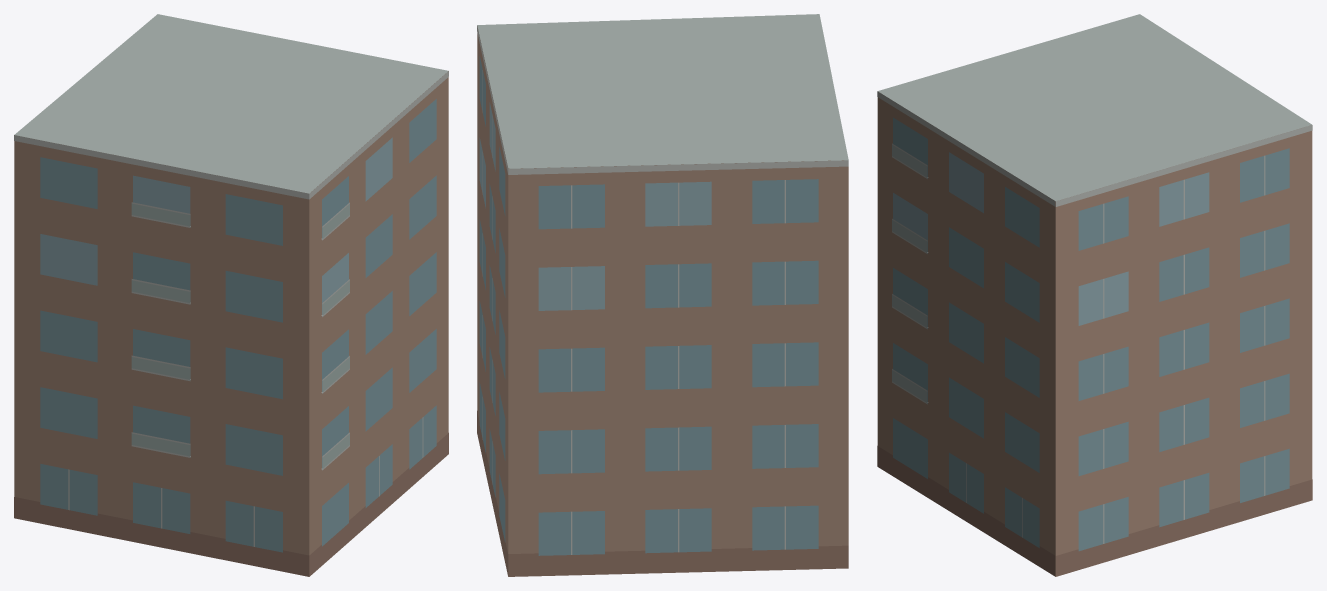
Rendered from survey-upis-32888343.glb.
3 views of the same model, side by side, from view 1: azimuth 30°, elevation 25°; view 2: azimuth 150°, elevation 25°; view 3: azimuth 270°, elevation 25° (orthographic). The views are drawn at different scales.
Parts seen in each view (by area): view 1: survey-upis-32888343.tmp; view 2: survey-upis-32888343.tmp; view 3: survey-upis-32888343.tmp.
Boxes of the visible parts, x1=… form: survey-upis-32888343.tmp: x1=14, y1=14, x2=448, y2=576; survey-upis-32888343.tmp: x1=477, y1=14, x2=848, y2=576; survey-upis-32888343.tmp: x1=877, y1=14, x2=1312, y2=576.
Size of the model in its own units: 16.91 by 15.8 by 16.59.
